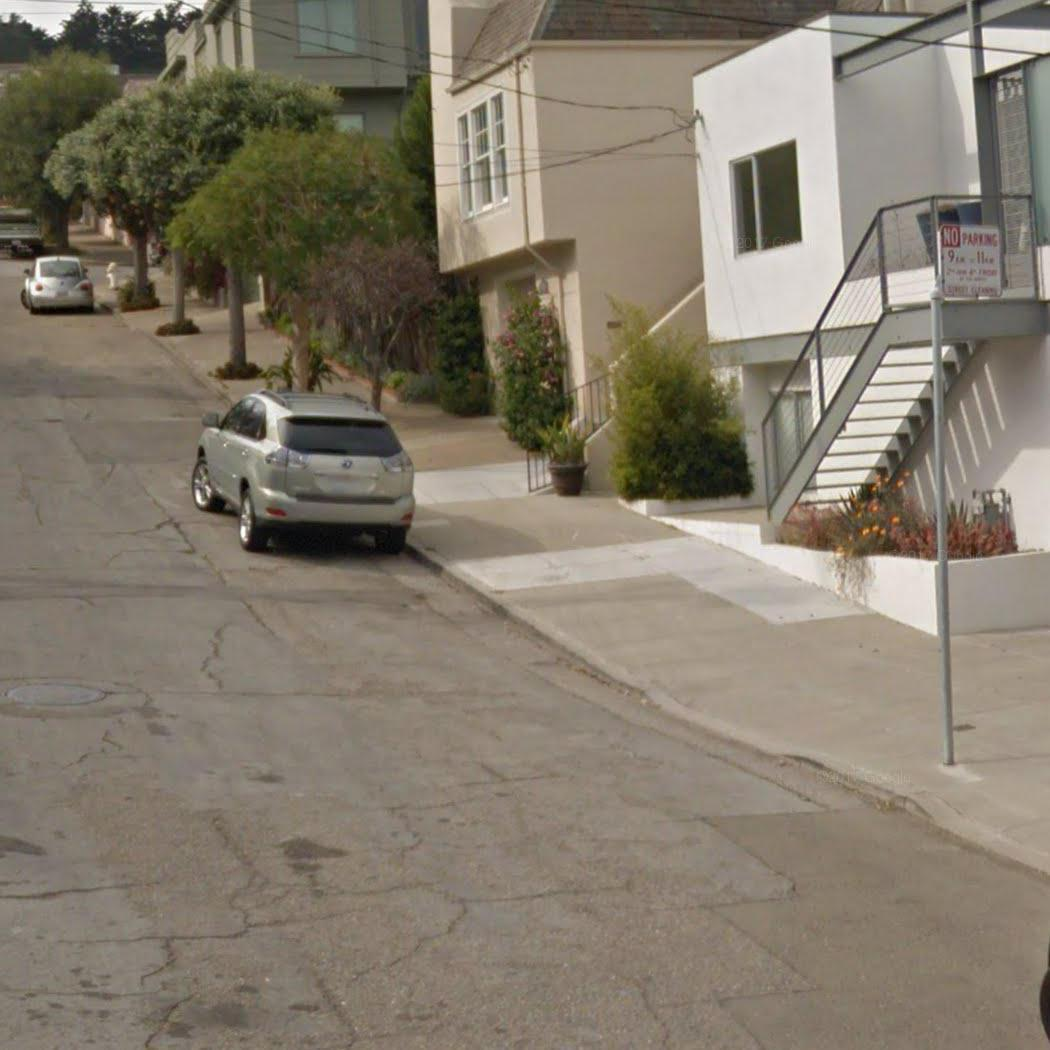No Parking: (933, 217, 1007, 306)
